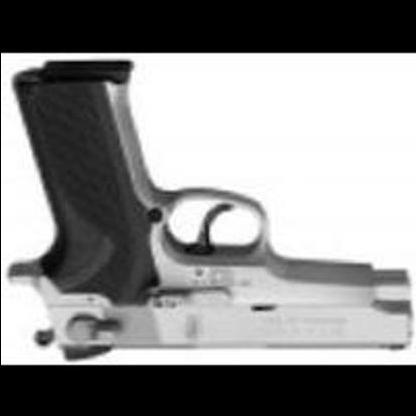weapon: (2, 59, 411, 361)
